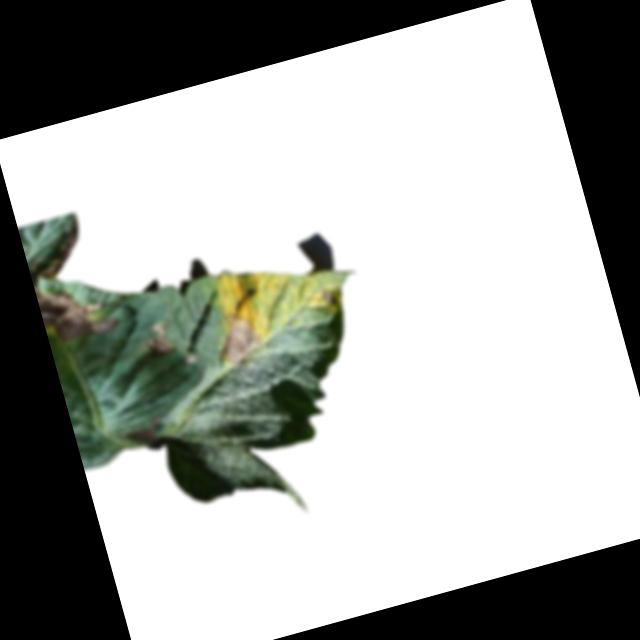Early_blight: (21, 223, 121, 350), (208, 299, 271, 370), (138, 318, 178, 364), (315, 281, 340, 309)
